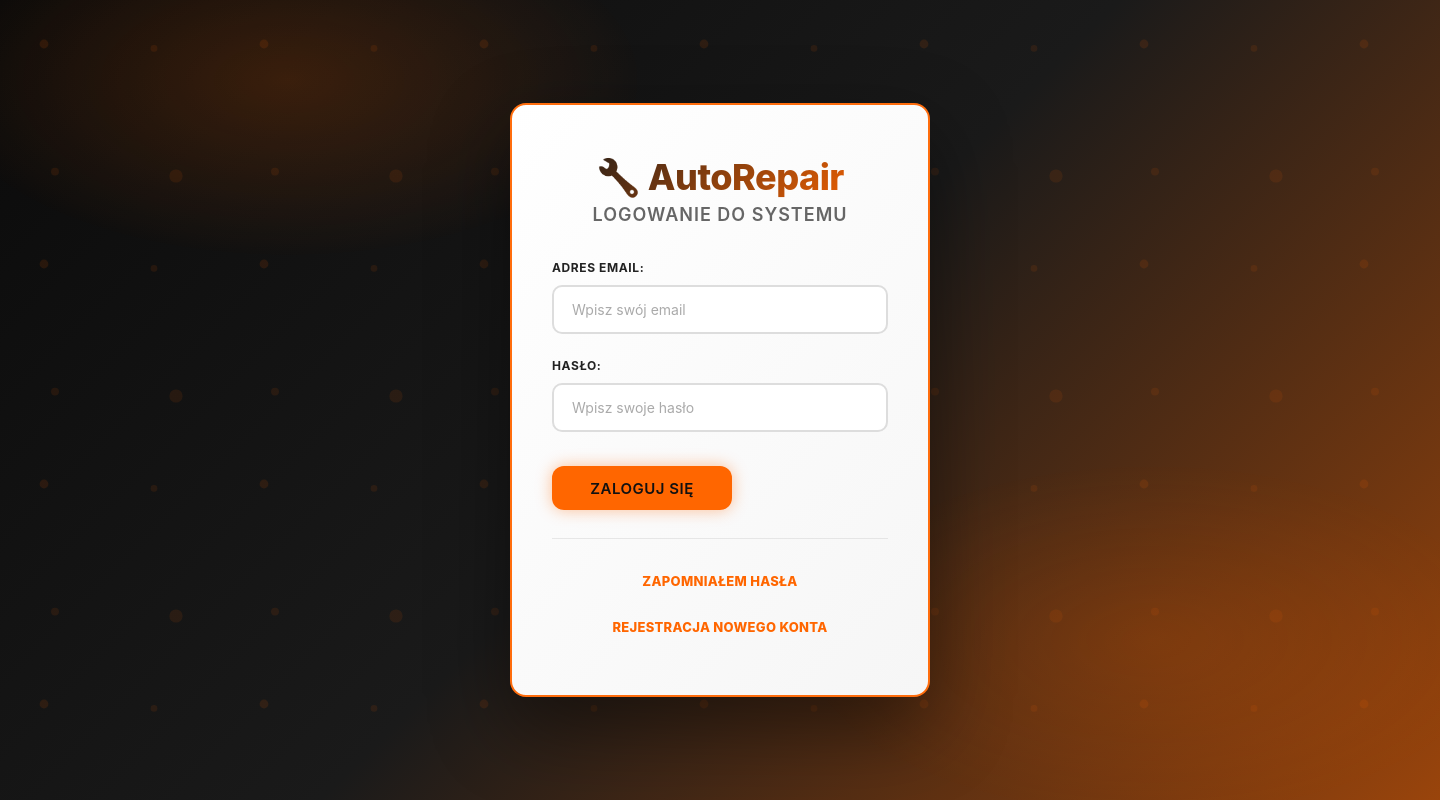
Test case: LoginScreen E2E › shows validation error when email format is invalid
The image size is (1440, 800).
In the field with test id "LoginScreen-email-input": (720, 310) [552, 285, 888, 334], type "invalid-email"
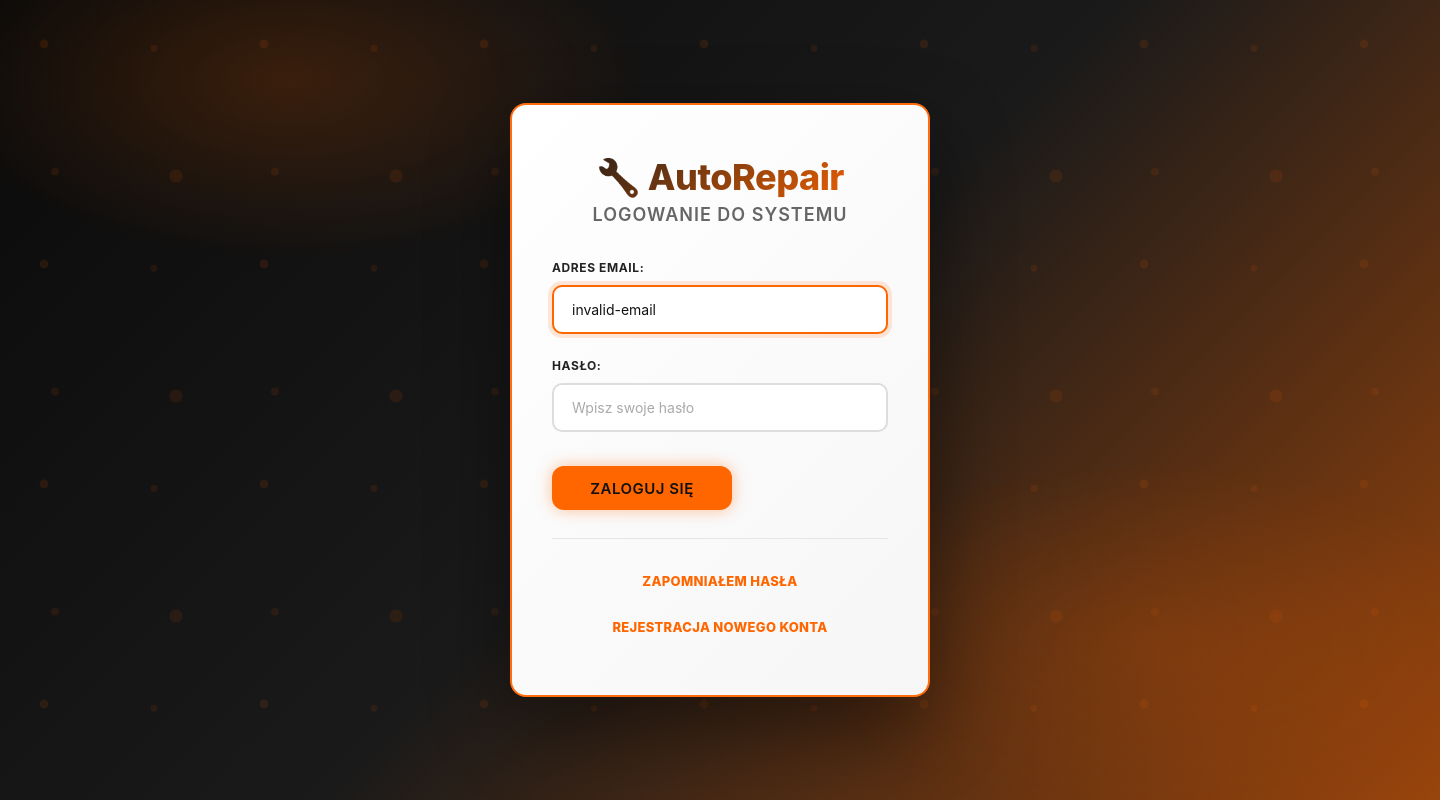
In the password field with test id "LoginScreen-password-input": (720, 408) [552, 383, 888, 432], type "whatever123"
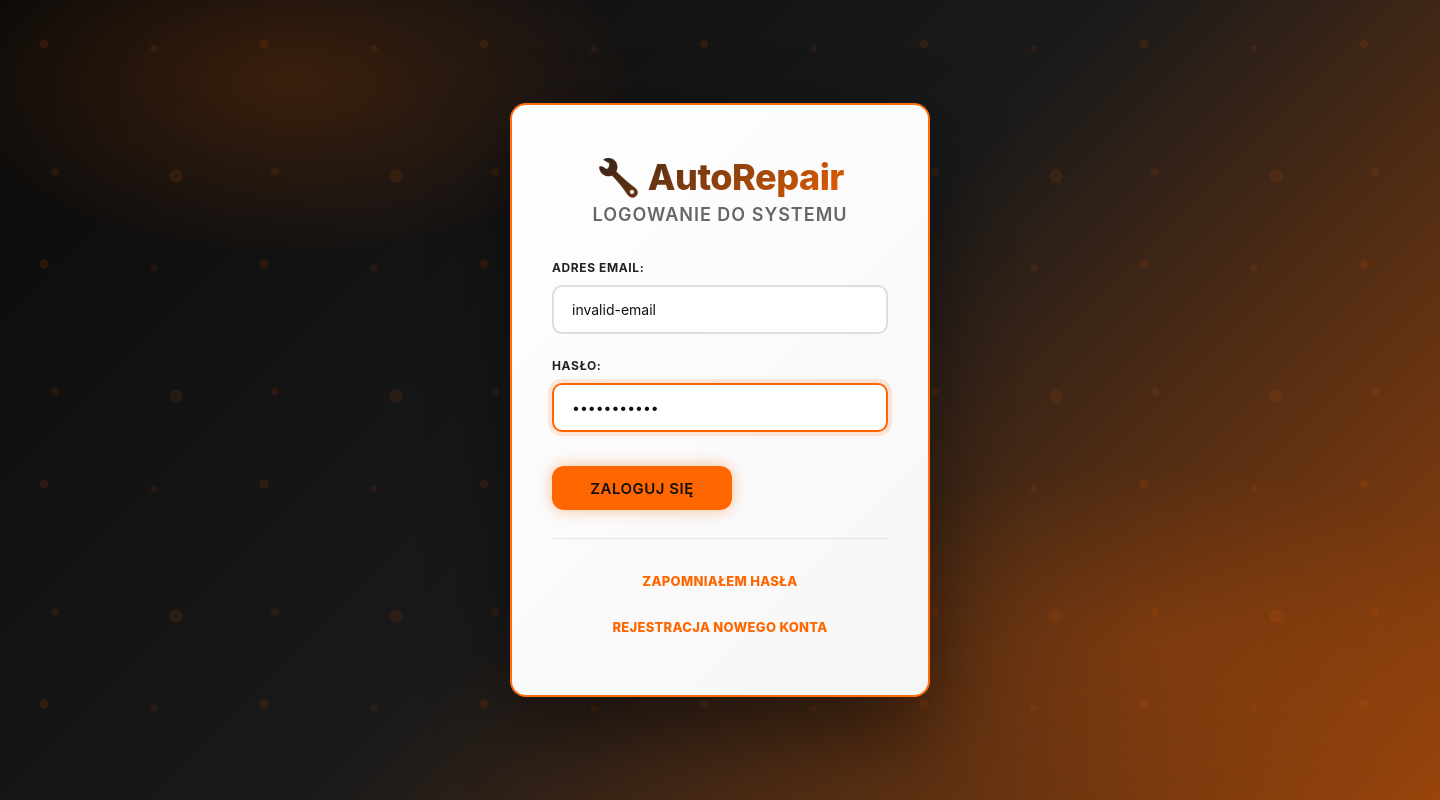
Click the button with test id "LoginScreen-login-submit-button": click(642, 488) [552, 466, 732, 510]
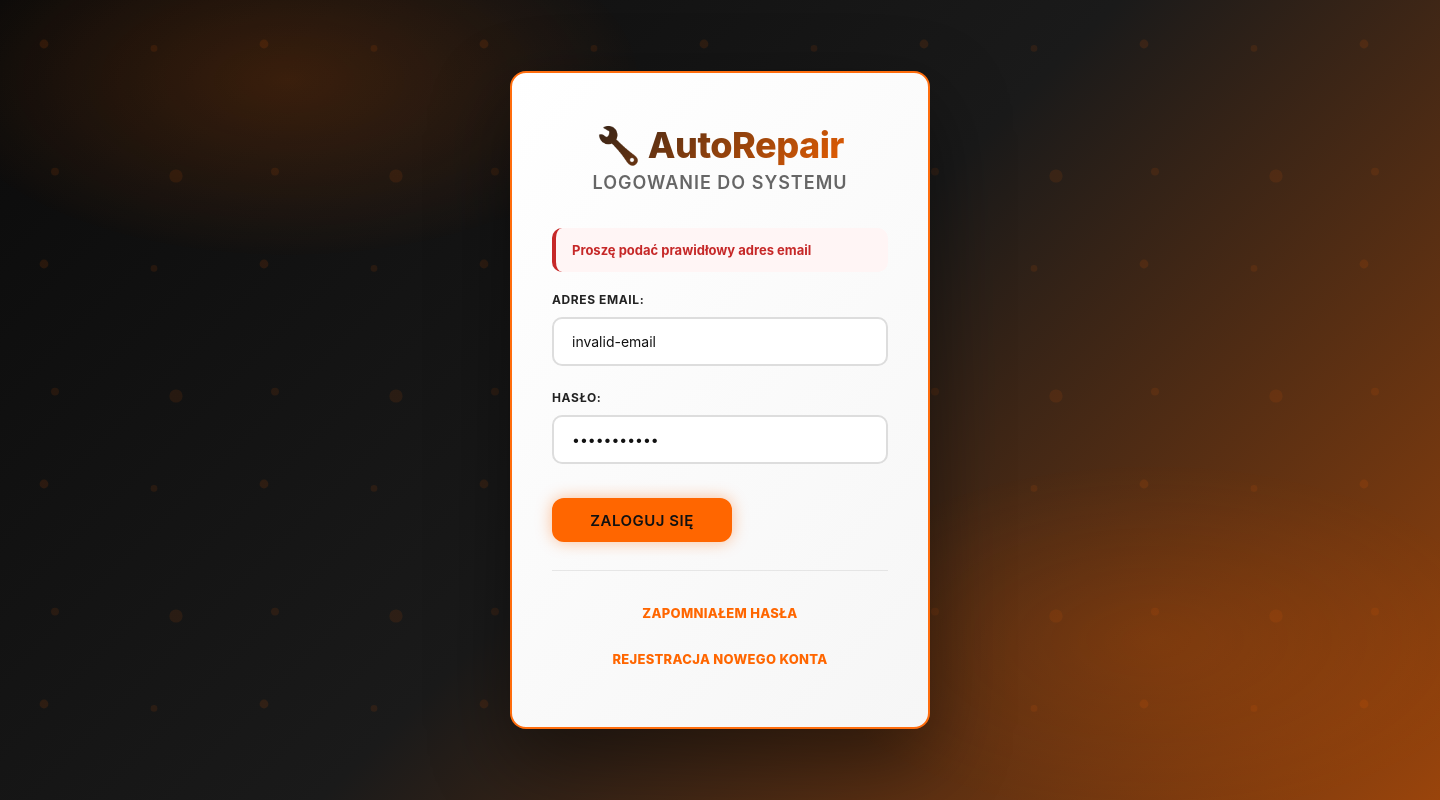
Expected: the text with test id "LoginScreen-error-alert" reads "Proszę podać prawidłowy adres email", [552, 228, 888, 272]
